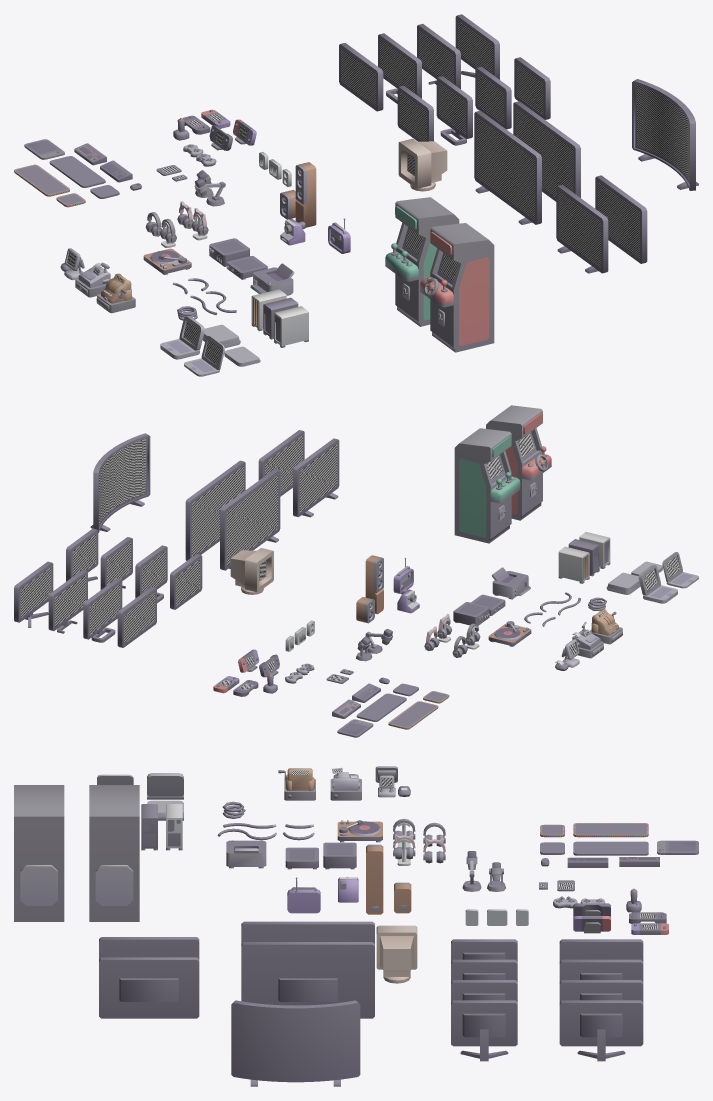
The model's file is electronics.glb.
3 renders of one model, top to bottom at view 1: azimuth 30°, elevation 25°; view 2: azimuth 150°, elevation 25°; view 3: azimuth 270°, elevation 25°, orthographic. The views are drawn at different scales.
Parts seen in each view (by area): view 1: arcade-machine-racing, tv-large, tv-large-curved (%secret), arcade-machine, hanging-tv-large (%wall), tv (%thumbnail), hanging-tv (%wall), crt-monitor, hanging-tv-monitor-wide (%wall), tv-monitor-wide-c, tv-monitor-c, tv-monitor-wide-a (+19 smaller); view 2: arcade-machine, tv-large-curved (%secret), tv-large, arcade-machine-racing, hanging-tv-large (%wall), tv (%thumbnail), tv-monitor-wide-c, tv-monitor-wide-a, tv-monitor-wide-b, crt-monitor, hanging-tv-monitor-wide (%wall), hanging-tv (%wall) (+18 smaller); view 3: tv-large-curved (%secret), hanging-tv-large (%wall), arcade-machine, arcade-machine-racing, hanging-tv (%wall), tv-monitor-wide-a, tv-monitor-a, tv-large, crt-monitor, tv (%thumbnail), hanging-tv-monitor-wide (%wall), tv-monitor-wide-b (+23 smaller).
Part boxes in pixels (x1=…): arcade-machine-racing: x1=420, y1=223, x2=494, y2=352; tv-large: x1=474, y1=110, x2=541, y2=224; tv-large-curved (%secret): x1=632, y1=79, x2=698, y2=190; arcade-machine: x1=385, y1=197, x2=459, y2=326; hanging-tv-large (%wall): x1=513, y1=101, x2=580, y2=201; tv (%thumbnail): x1=556, y1=185, x2=608, y2=273; hanging-tv (%wall): x1=595, y1=175, x2=647, y2=263; crt-monitor: x1=398, y1=138, x2=447, y2=191; hanging-tv-monitor-wide (%wall): x1=339, y1=43, x2=383, y2=111; tv-monitor-wide-c: x1=378, y1=33, x2=421, y2=103; tv-monitor-c: x1=436, y1=76, x2=472, y2=145; tv-monitor-wide-a: x1=455, y1=14, x2=499, y2=79; arcade-machine: x1=454, y1=428, x2=520, y2=543; tv-large-curved (%secret): x1=90, y1=433, x2=150, y2=532; tv-large: x1=220, y1=469, x2=280, y2=570; arcade-machine-racing: x1=486, y1=405, x2=551, y2=520; hanging-tv-large (%wall): x1=185, y1=460, x2=245, y2=560; tv (%thumbnail): x1=293, y1=438, x2=339, y2=517; tv-monitor-wide-c: x1=83, y1=578, x2=122, y2=642; tv-monitor-wide-a: x1=14, y1=561, x2=53, y2=627; tv-monitor-wide-b: x1=48, y1=570, x2=87, y2=633; crt-monitor: x1=230, y1=548, x2=273, y2=594; hanging-tv-monitor-wide (%wall): x1=117, y1=587, x2=156, y2=647; hanging-tv (%wall): x1=258, y1=430, x2=304, y2=496; tv-large-curved (%secret): x1=231, y1=1000, x2=360, y2=1086; hanging-tv-large (%wall): x1=241, y1=942, x2=374, y2=1018; arcade-machine: x1=89, y1=785, x2=139, y2=921; arcade-machine-racing: x1=14, y1=785, x2=64, y2=921; hanging-tv (%wall): x1=99, y1=957, x2=199, y2=1018; tv-monitor-wide-a: x1=559, y1=1000, x2=643, y2=1061; tv-monitor-a: x1=451, y1=1000, x2=517, y2=1061; tv-large: x1=241, y1=921, x2=374, y2=943; crt-monitor: x1=376, y1=925, x2=417, y2=983; tv (%thumbnail): x1=99, y1=937, x2=199, y2=958; hanging-tv-monitor-wide (%wall): x1=559, y1=939, x2=643, y2=961; tv-monitor-wide-b: x1=559, y1=980, x2=643, y2=1001.
Size of the model in its own units: 8.49 by 1.53 by 8.19.
5 materials, 3 textured.
